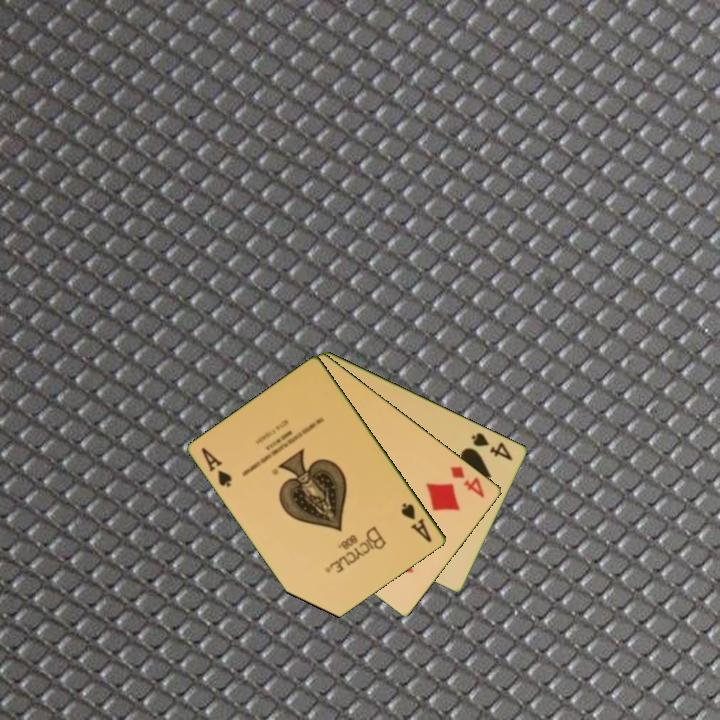4d: (447, 462, 488, 501)
4s: (468, 429, 516, 464)
As: (398, 499, 435, 545), (198, 444, 235, 490)
